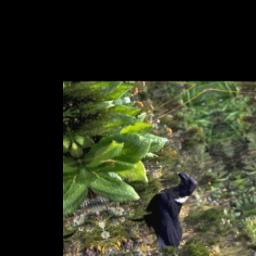Crow: (116, 167, 218, 255)
